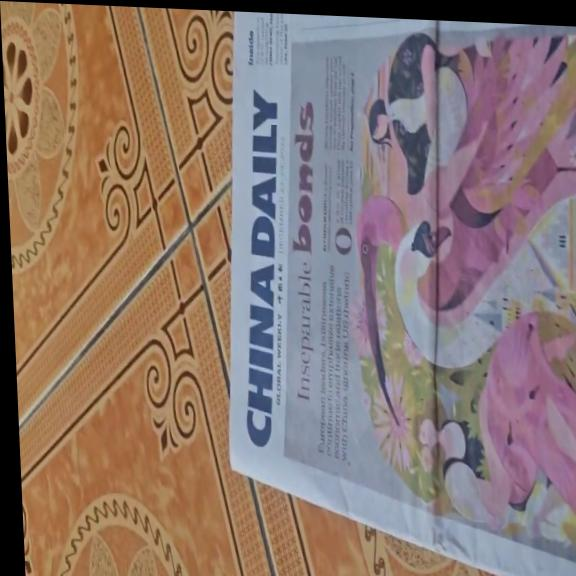Kertas: (208, 16, 576, 576)
